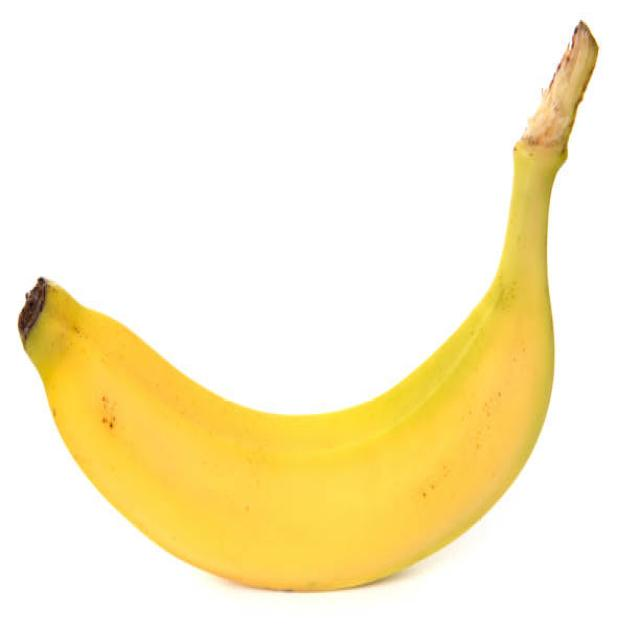banana: (15, 21, 599, 596)
